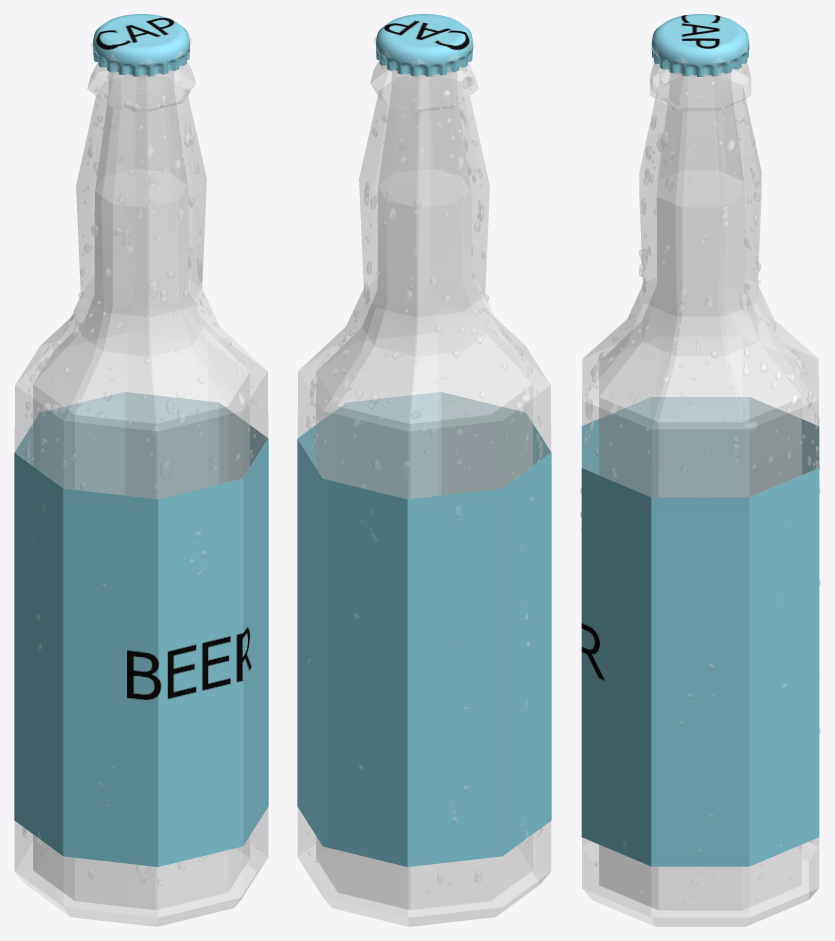
The picture shows the model from 3 angles, left to right: view 1: azimuth 30°, elevation 25°; view 2: azimuth 150°, elevation 25°; view 3: azimuth 270°, elevation 25°; orthographic projection.
Visible parts, largest first — view 1: Cylinder.002, Cylinder, Cylinder.007, droplets, Cylinder.001; view 2: Cylinder.002, Cylinder, Cylinder.007, droplets, Cylinder.001; view 3: Cylinder.002, Cylinder, Cylinder.007, droplets, Cylinder.001.
Part boxes in pixels (bbox=[...]): Cylinder.002: bbox=[14, 392, 268, 866]; Cylinder: bbox=[15, 36, 267, 926]; Cylinder.007: bbox=[33, 186, 249, 909]; droplets: bbox=[22, 66, 259, 891]; Cylinder.001: bbox=[92, 14, 190, 76]; Cylinder.002: bbox=[297, 392, 551, 866]; Cylinder: bbox=[298, 36, 550, 926]; Cylinder.007: bbox=[316, 186, 532, 909]; droplets: bbox=[306, 66, 543, 893]; Cylinder.001: bbox=[375, 14, 473, 76]; Cylinder.002: bbox=[581, 397, 819, 866]; Cylinder: bbox=[582, 46, 818, 926]; Cylinder.007: bbox=[599, 182, 801, 910]; droplets: bbox=[580, 69, 820, 903]; Cylinder.001: bbox=[651, 14, 749, 76].
Bounding box in the file's own units: 0.0671 × 0.2608 × 0.067.
Materials: 6 (2 with a texture image).
